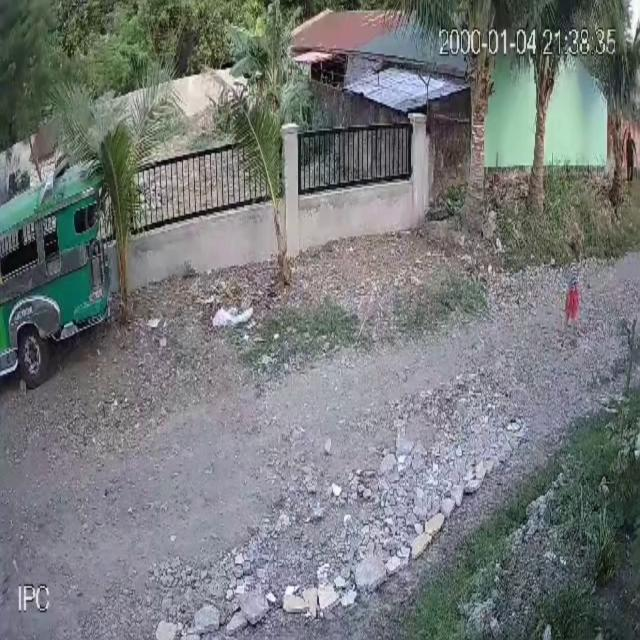walking: (562, 236, 584, 345), (625, 128, 634, 190)
